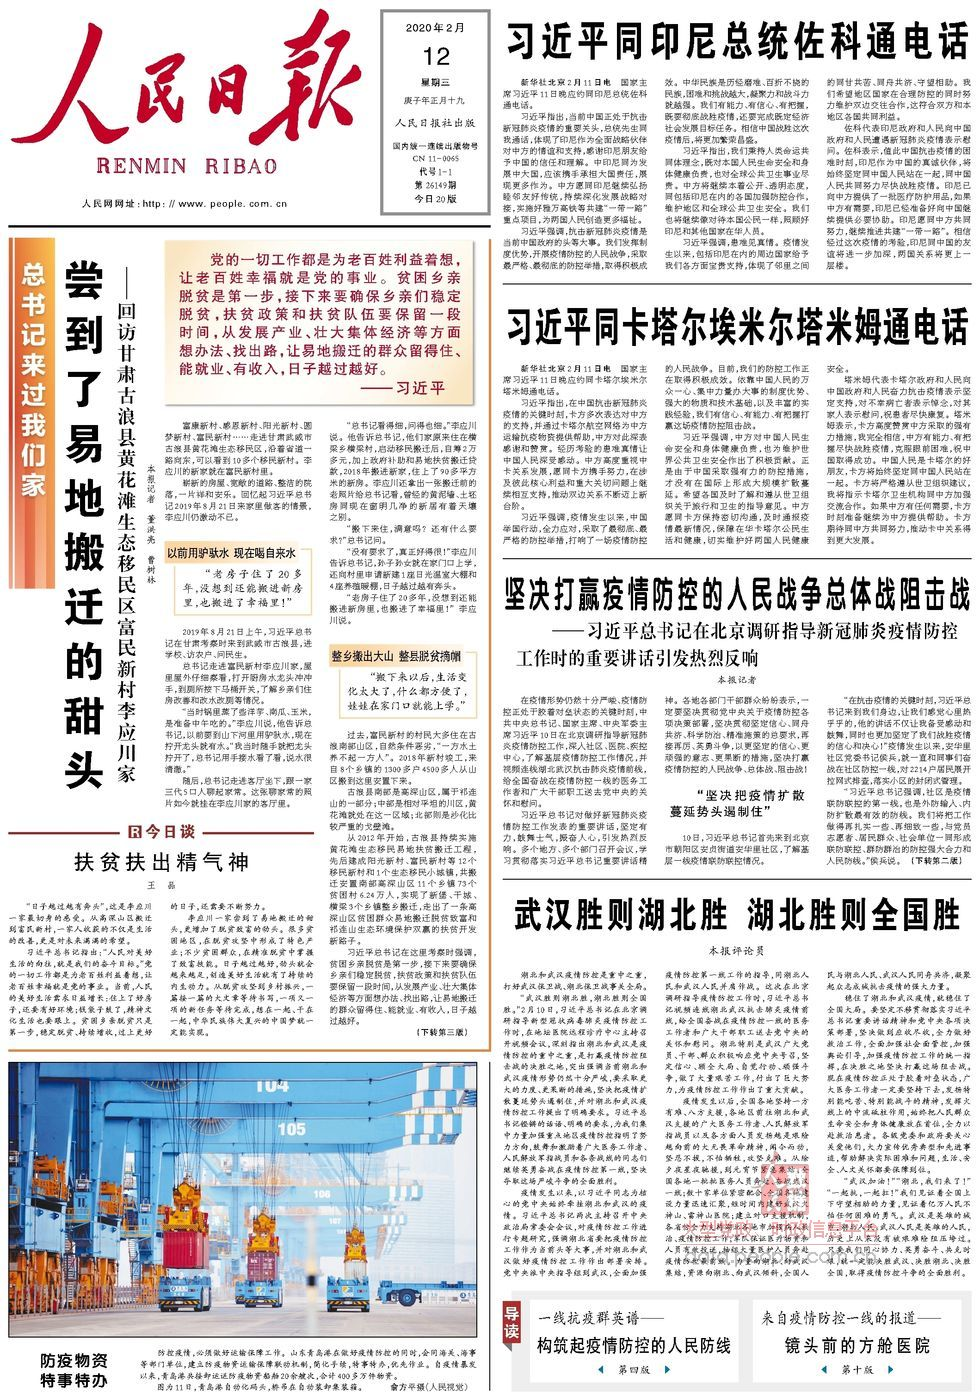pic: (3, 1057, 481, 1341)
